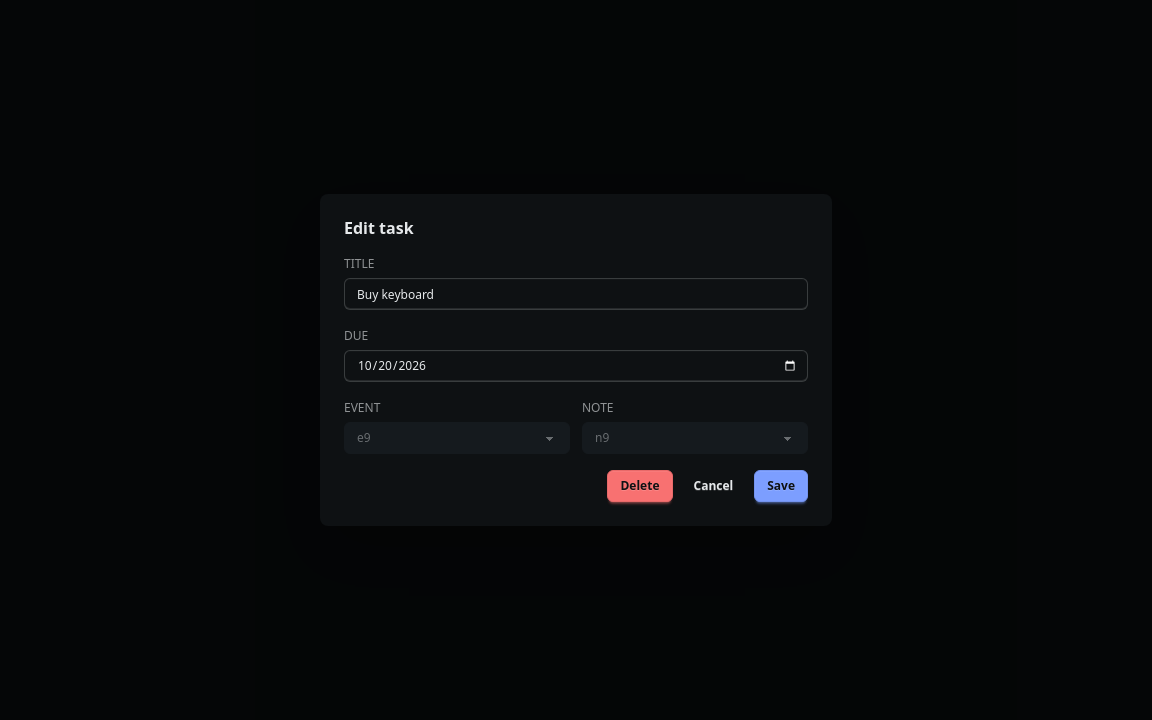
TaskForm › shows an error and returns to the buttons when delete fails
The width and height of the screenshot is (1152, 720).
Click the button "Delete": {"x": 640, "y": 486} top-left (608, 470), bottom-right (672, 502)
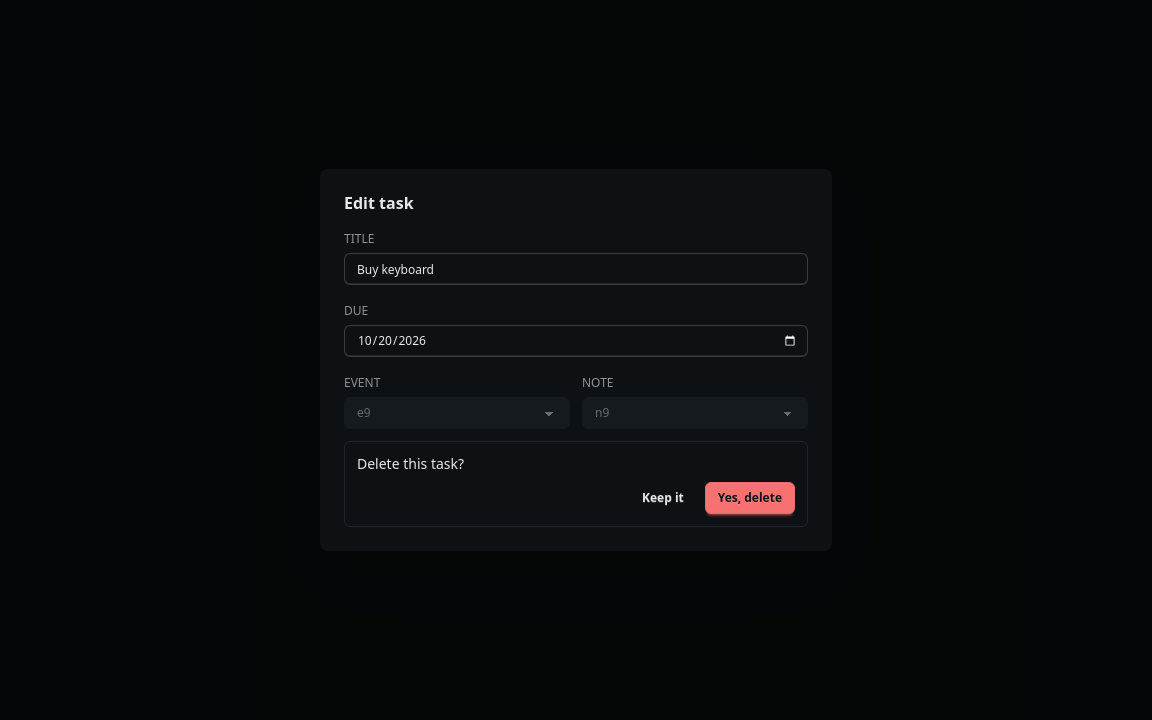
Click the button "Yes, delete": {"x": 750, "y": 498} top-left (705, 482), bottom-right (795, 514)
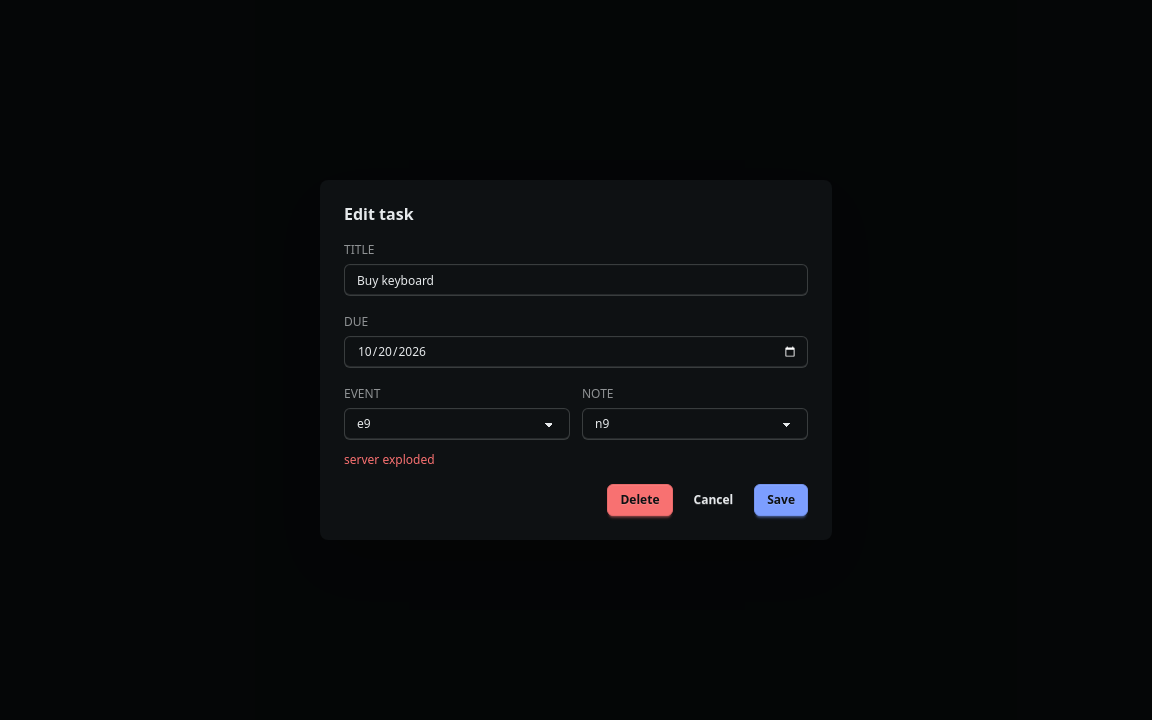
Expected: the button "Delete" is shown, top-left (608, 484), bottom-right (672, 516)
Expected: the list item "server exploded" is shown, top-left (344, 451), bottom-right (435, 468)
Expected: the text "Delete this task?" is gone
